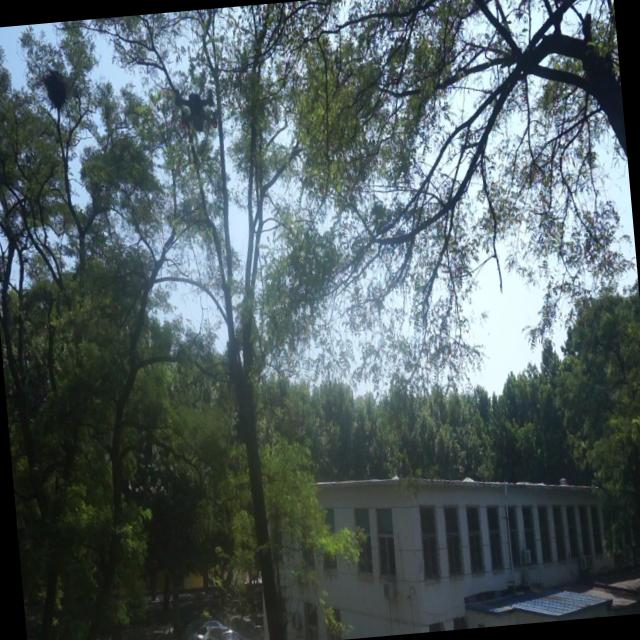drone: (166, 82, 224, 142)
